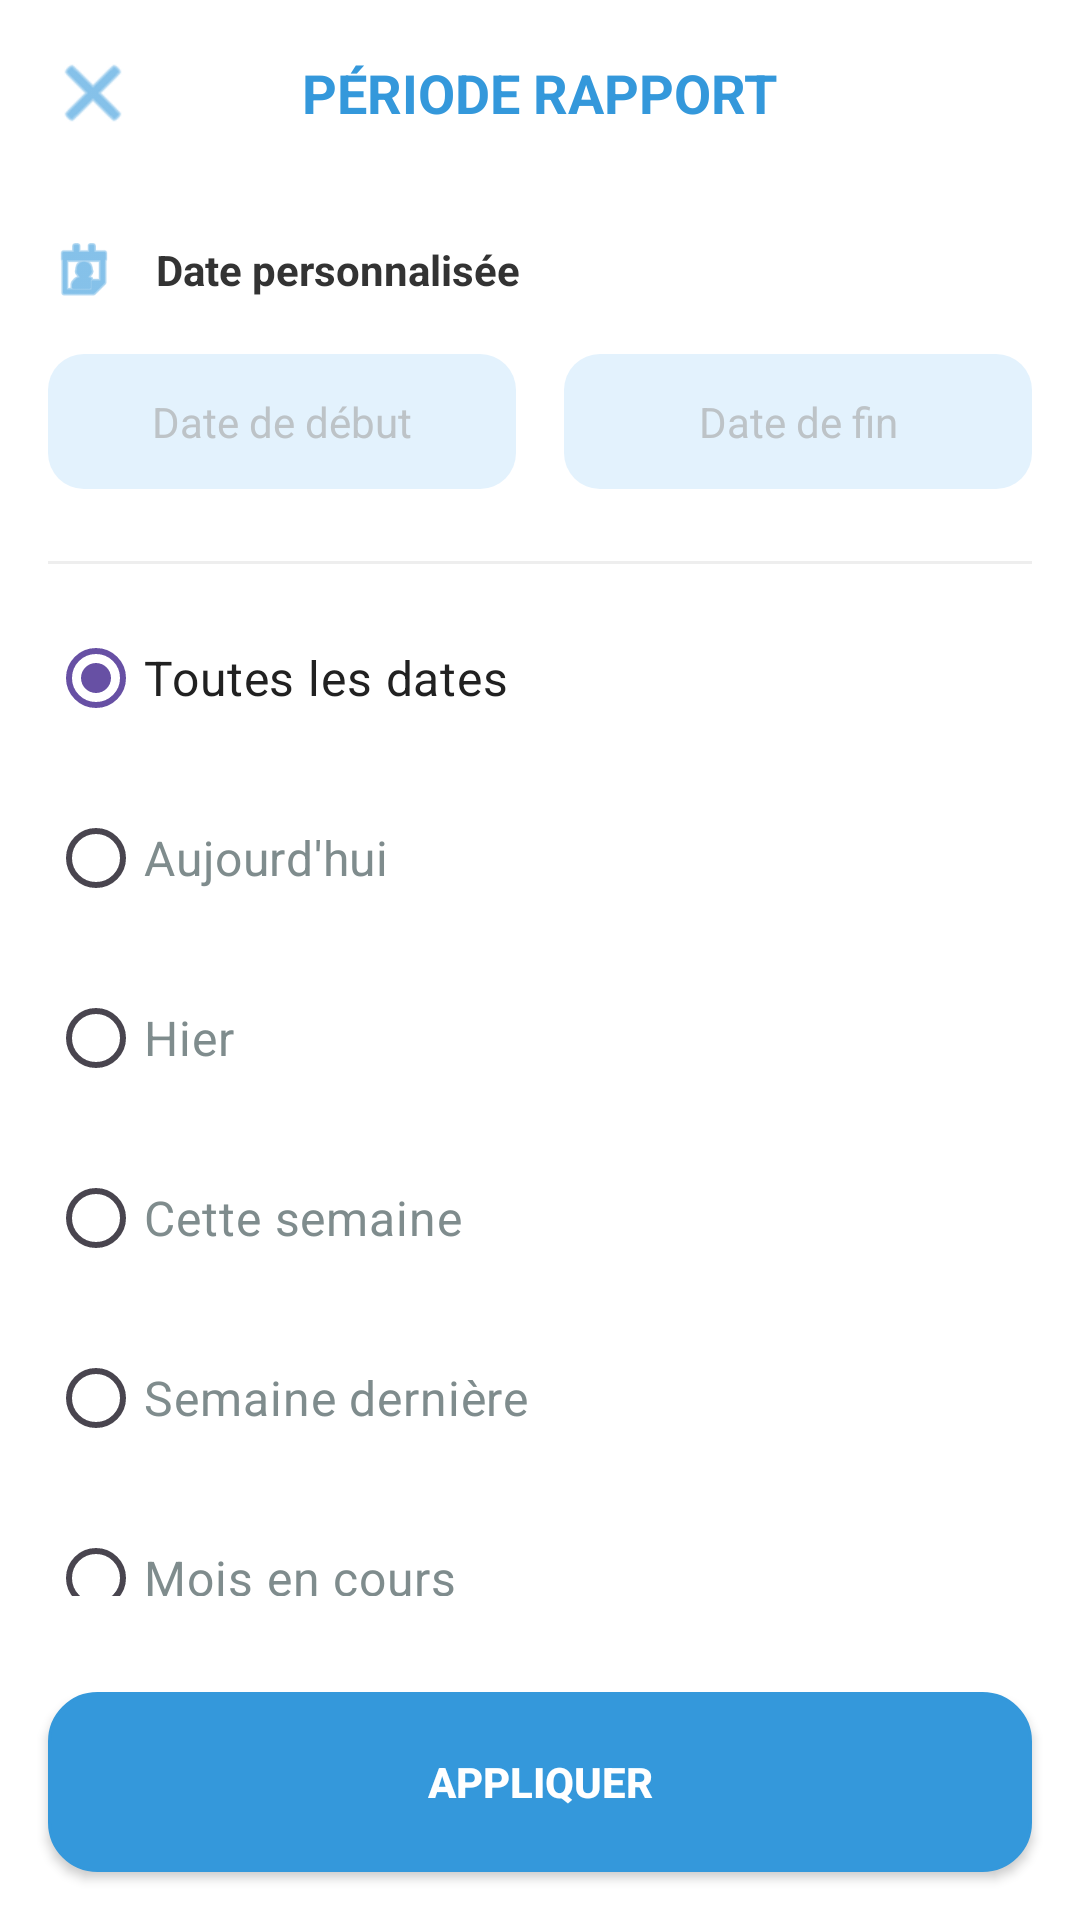

Icons on this 1080*1920 Android screen, each with the point to tap as (x=x, y=y):
calendar: (x=84, y=269)
close clear cancel: (x=93, y=93)
